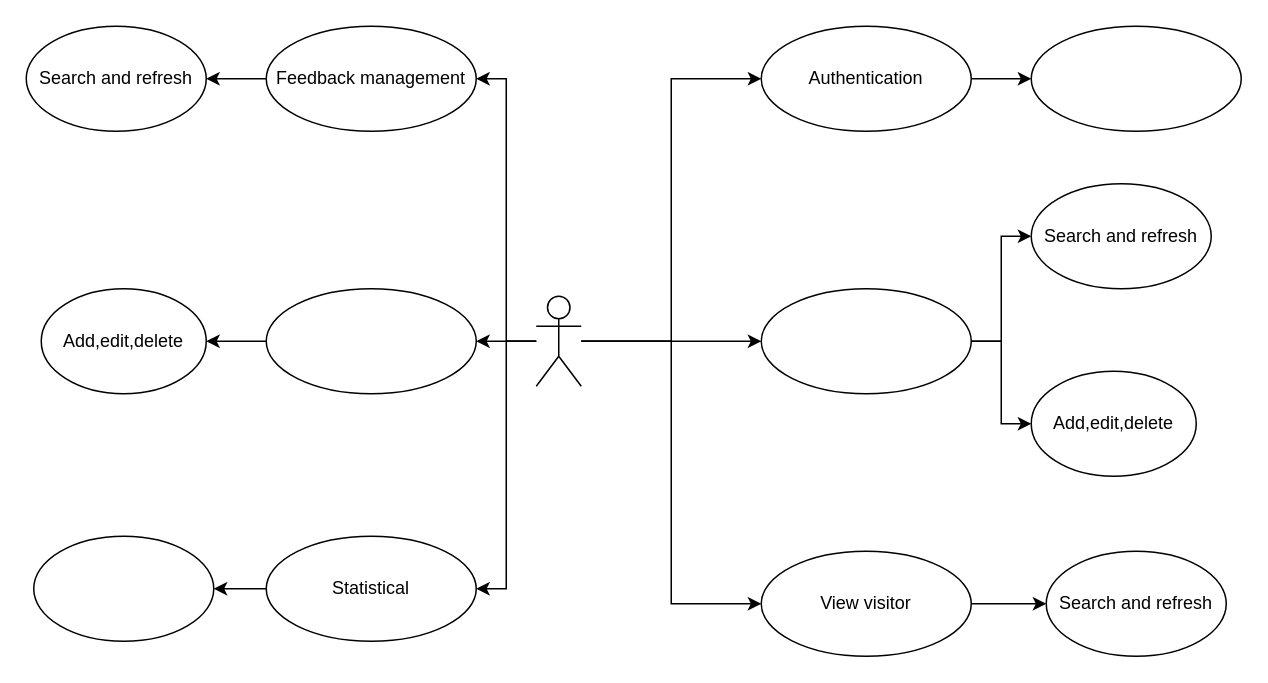
This 1268x683 diagram has some shape labels left out. The shapes that lost their labels are listed below. From the top down, each one's centre as x and y in pixels, then its label:
At (x=1135, y=78): "Login".
At (x=370, y=340): "Manage Account".
At (x=558, y=340): "Admin".
At (x=865, y=340): "Manage Apartment".
At (x=123, y=588): "View charts".
